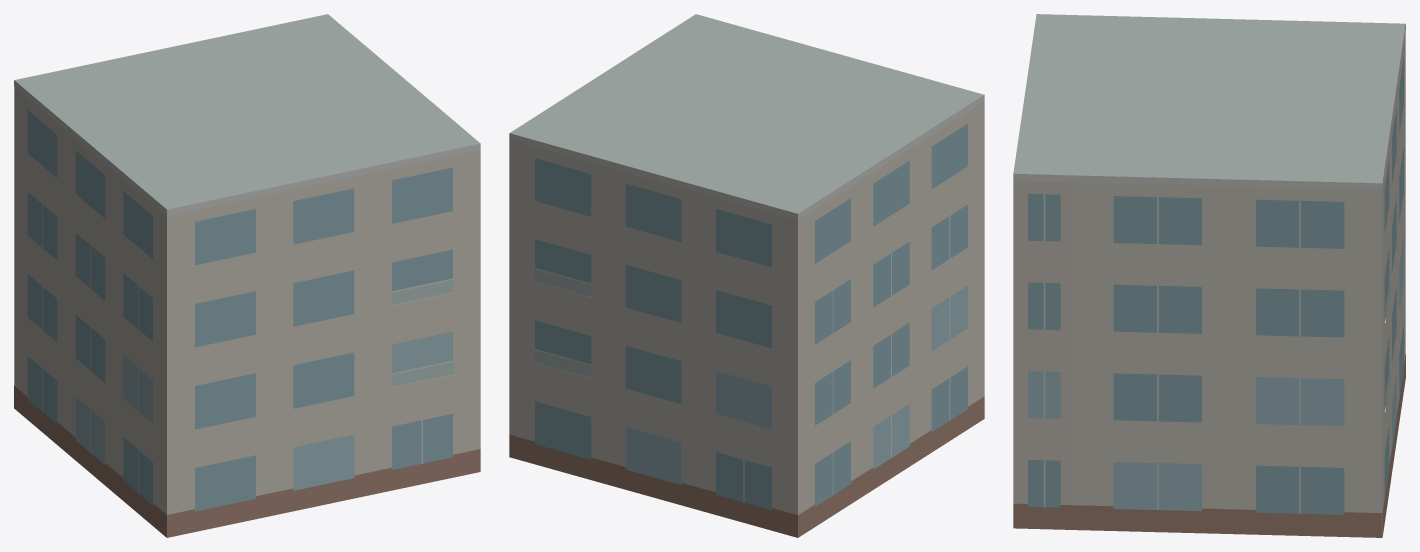
File: residential-f33d5af9-8695-4d56-b317-e518fc344060.glb
3 renders of one model, left to right at view 1: azimuth 30°, elevation 25°; view 2: azimuth 150°, elevation 25°; view 3: azimuth 270°, elevation 25°, orthographic. The views are drawn at different scales.
Parts seen in each view (by area): view 1: residential-f33d5af9-8695-4d56-b317-e518fc344060.tmp; view 2: residential-f33d5af9-8695-4d56-b317-e518fc344060.tmp; view 3: residential-f33d5af9-8695-4d56-b317-e518fc344060.tmp.
Part boxes in pixels (x1,y1,x2,y2): residential-f33d5af9-8695-4d56-b317-e518fc344060.tmp: [14, 14, 480, 537]; residential-f33d5af9-8695-4d56-b317-e518fc344060.tmp: [509, 14, 984, 537]; residential-f33d5af9-8695-4d56-b317-e518fc344060.tmp: [1013, 14, 1405, 537].
Bounding box in the file's own units: 12.5 × 12.2 × 12.25.
